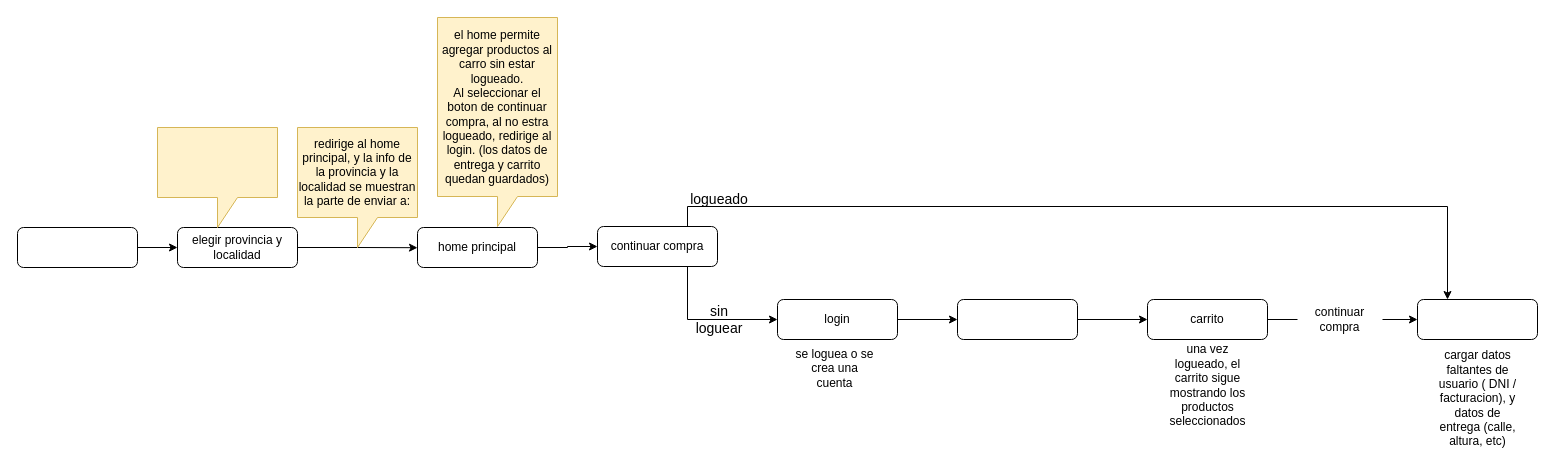
Some shapes in this 1555 by 466 pixel diagram are drawn without their labels. The centre of each missing label's shape, as x and y in pixels:
CheckOut: point 1477,319
home: point 1017,319
home sin loguear: point 77,247
ya estarian pre cargadas en formularios tipo option: point 217,177
